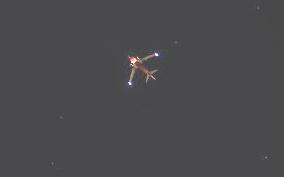Plane: (117, 30, 174, 96)
